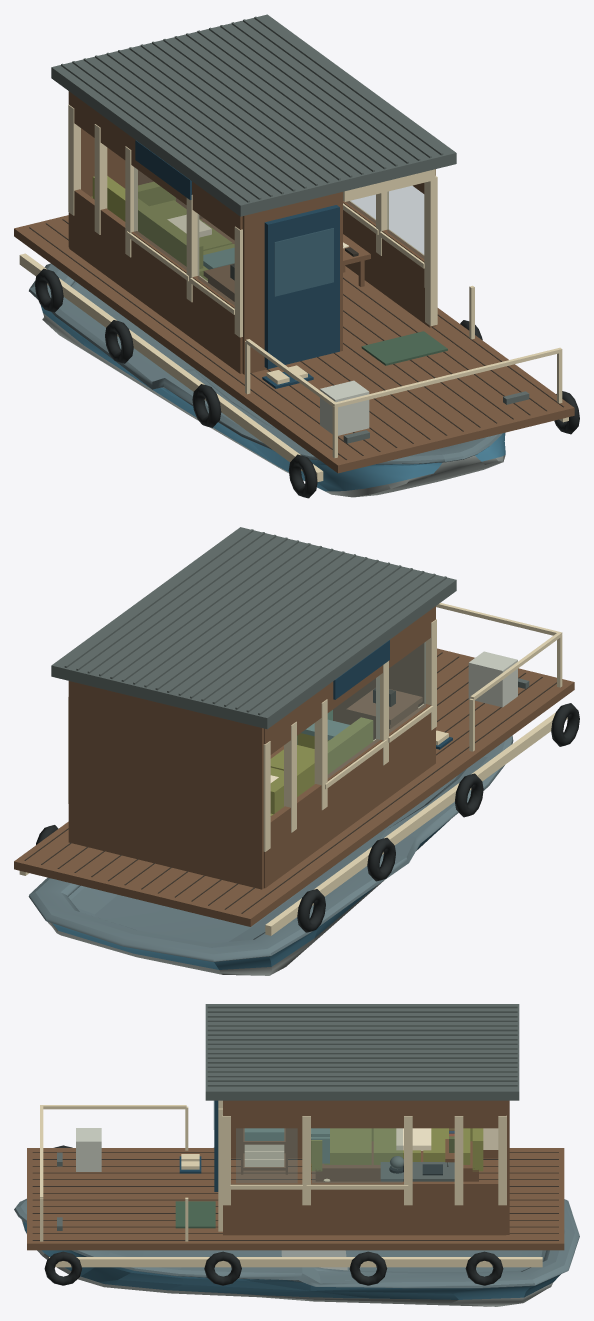
File: fujita-houseboat.glb
3 views of the same model, one above another, from view 1: azimuth 30°, elevation 25°; view 2: azimuth 150°, elevation 25°; view 3: azimuth 270°, elevation 25° (orthographic). The views are drawn at different scales.
Visible parts, largest first — view 1: Houseboat fittings (×8), Houseboat cutaway roof (×2), Cabin window (×3), Houseboat_gunwale, Houseboat_hull, Door frosted panel, Houseboat_inner_hull; view 2: Houseboat fittings (×7), Houseboat cutaway roof, Houseboat_gunwale, Cabin window (×2), Houseboat_hull, Houseboat_inner_hull; view 3: Houseboat fittings (×11), Houseboat cutaway roof, Houseboat_gunwale, Cabin window (×2), Houseboat_hull, Houseboat_inner_hull.
Boxes of the visible parts, bbox=[...] form: Houseboat fittings (×8): bbox=[14, 91, 579, 498]; Houseboat cutaway roof (×2): bbox=[51, 14, 456, 216]; Cabin window (×3): bbox=[134, 167, 423, 304]; Houseboat_gunwale: bbox=[29, 263, 502, 464]; Houseboat_hull: bbox=[40, 305, 505, 491]; Door frosted panel: bbox=[274, 228, 333, 296]; Houseboat_inner_hull: bbox=[42, 313, 505, 497]; Houseboat fittings (×7): bbox=[14, 602, 579, 935]; Houseboat cutaway roof: bbox=[51, 527, 456, 729]; Houseboat_gunwale: bbox=[28, 735, 513, 962]; Cabin window (×2): bbox=[328, 642, 425, 777]; Houseboat_hull: bbox=[52, 819, 450, 969]; Houseboat_inner_hull: bbox=[48, 821, 448, 975]; Houseboat fittings (×11): bbox=[27, 1100, 564, 1285]; Houseboat cutaway roof: bbox=[205, 1004, 519, 1100]; Houseboat_gunwale: bbox=[14, 1198, 579, 1288]; Cabin window (×2): bbox=[236, 1128, 402, 1182]; Houseboat_hull: bbox=[23, 1221, 560, 1299]; Houseboat_inner_hull: bbox=[21, 1219, 553, 1306].
Bounding box in the file's own units: 3.58 × 3.36 × 7.79.
